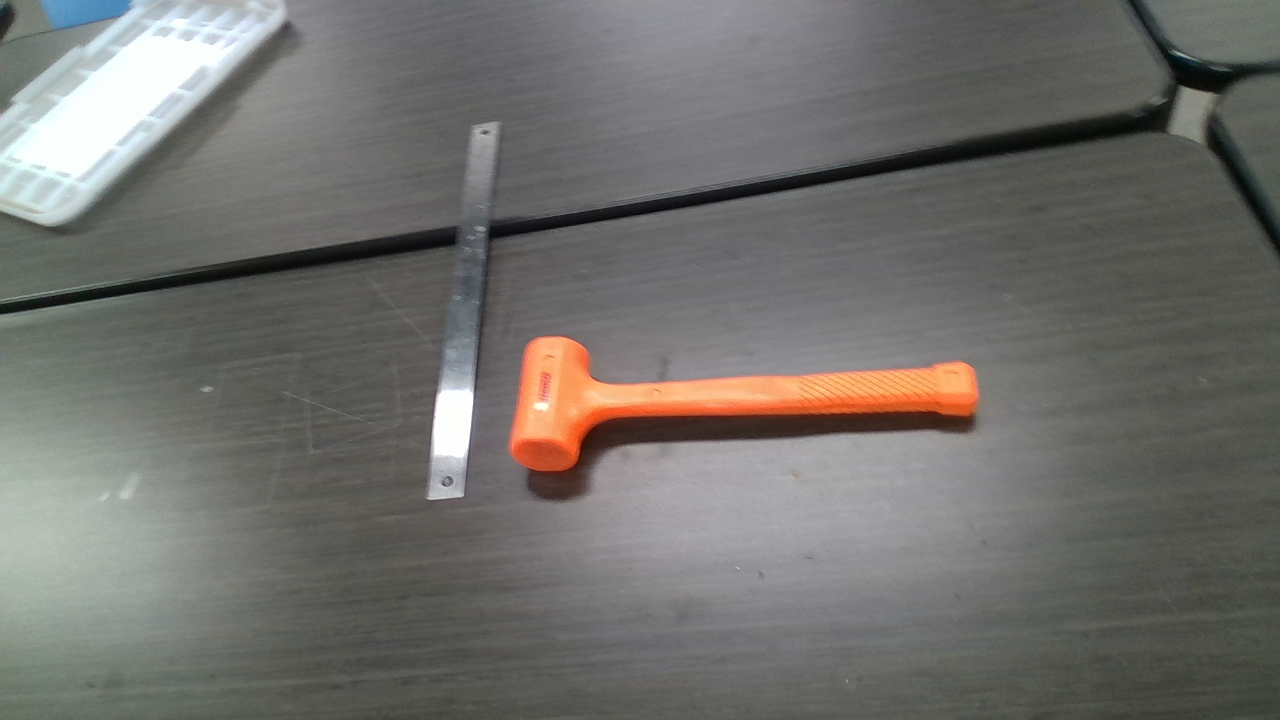Orange Hammer: (511, 337, 976, 471)
